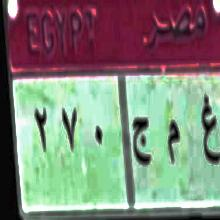0: (88, 115, 113, 165)
2: (33, 98, 50, 157)
7: (59, 103, 84, 169)
ghayn: (197, 89, 220, 176)
jeem: (128, 108, 155, 182)
meem: (162, 111, 186, 186)
